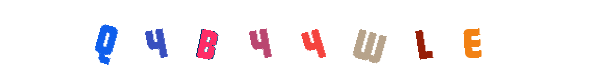4: (125, 0, 205, 80), (224, 0, 304, 80), (261, 0, 341, 80)
B: (217, 0, 297, 80)
E: (431, 0, 511, 80)
L: (382, 0, 462, 80)
Q: (66, 0, 146, 80)
W: (311, 0, 391, 80)
